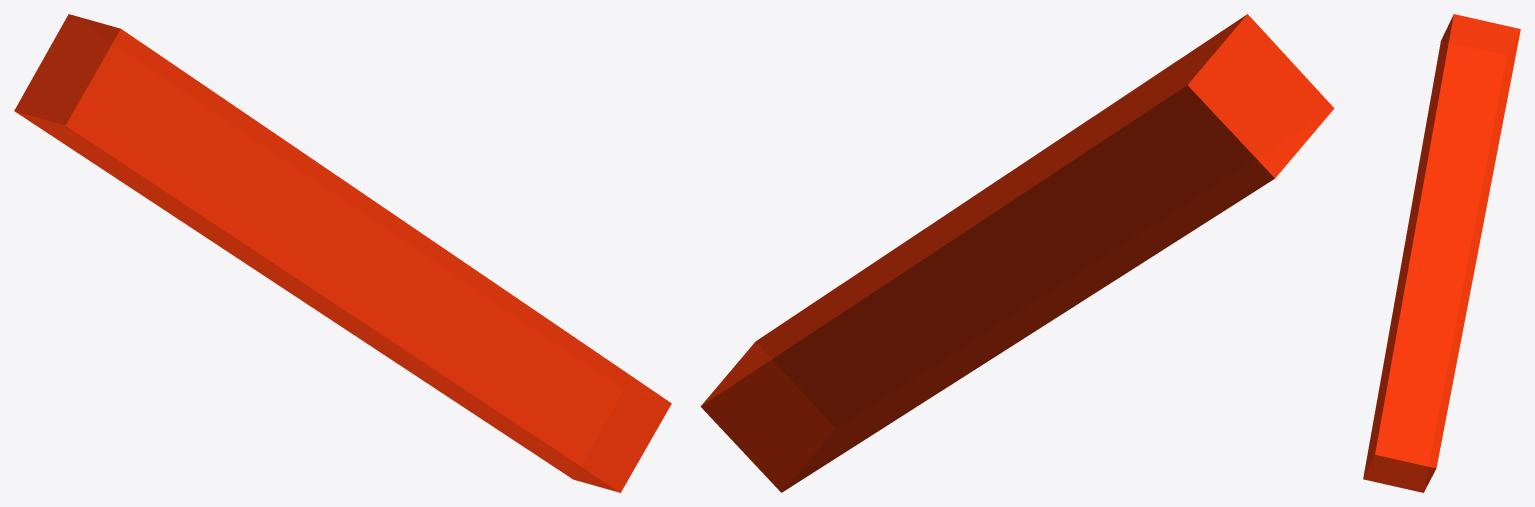
Rendered from Event_420604493_EBrechit_6.fbx.
3 renders of one model, left to right at view 1: azimuth 30°, elevation 25°; view 2: azimuth 150°, elevation 25°; view 3: azimuth 270°, elevation 25°, orthographic. The views are drawn at different scales.
Parts seen in each view (by area): view 1: Model; view 2: Model; view 3: Model.
Boxes of the visible parts, x1,y1,x2,y2 form: Model: (14, 14, 671, 492); Model: (700, 14, 1334, 492); Model: (1363, 14, 1520, 492).
Size of the model in its own units: 0.3633 by 0.3369 by 0.1397.
